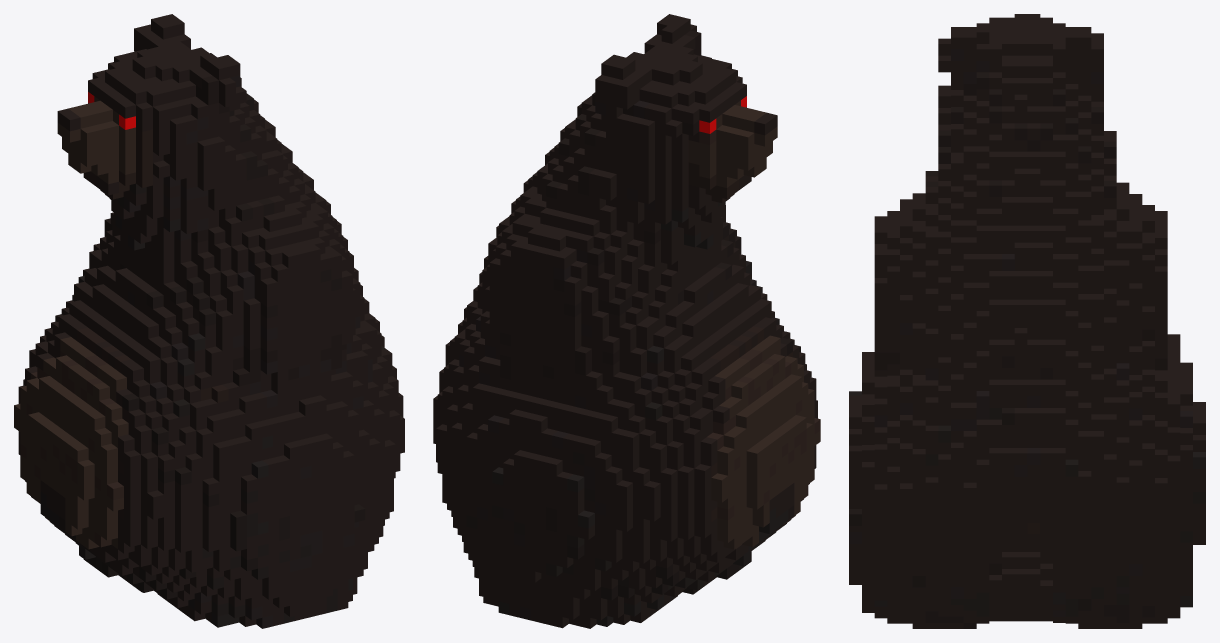
Rendered from bear_split-4-body.obj.
3 views of the same model, side by side, from view 1: azimuth 30°, elevation 25°; view 2: azimuth 150°, elevation 25°; view 3: azimuth 270°, elevation 25° (orthographic). The views are drawn at different scales.
Visible parts, largest first — view 1: body; view 2: body; view 3: body.
Boxes of the visible parts, x1,y1,x2,y2 form: body: [14, 14, 404, 628]; body: [433, 14, 820, 628]; body: [849, 14, 1205, 628].
Size of the model in its own units: 3 by 4.7 by 2.8.
1 material, 1 textured.
